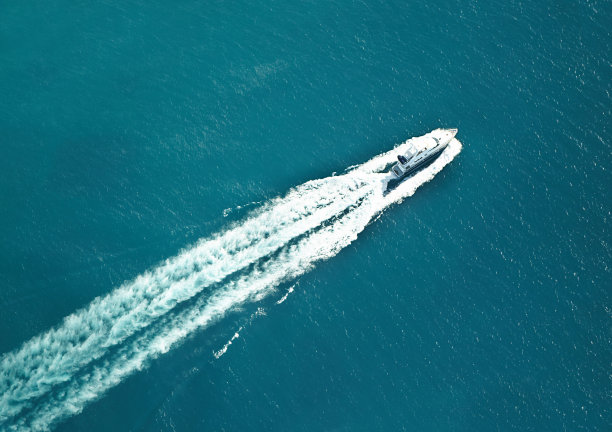ship: (361, 112, 474, 192)
